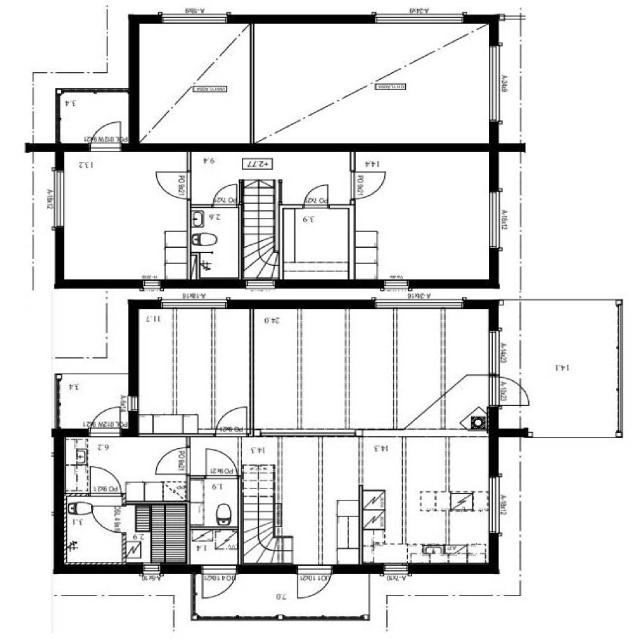door: (293, 562, 335, 600), (198, 444, 240, 480), (488, 376, 532, 410), (199, 564, 239, 600), (212, 403, 253, 437), (152, 444, 193, 478), (350, 168, 390, 200), (152, 168, 193, 199), (87, 464, 124, 497), (88, 404, 124, 437), (89, 118, 125, 148), (90, 503, 121, 534), (297, 182, 333, 208), (210, 181, 240, 207)
window: (483, 43, 509, 126), (370, 7, 470, 28), (366, 294, 473, 312), (156, 8, 237, 28), (483, 188, 508, 252), (483, 474, 506, 538), (46, 168, 69, 231), (157, 296, 234, 312), (484, 326, 506, 379), (377, 275, 417, 293), (381, 562, 413, 576), (138, 276, 166, 292), (242, 278, 278, 290), (141, 564, 164, 576), (126, 395, 140, 414)
zone: (246, 20, 494, 146), (351, 147, 494, 282), (58, 146, 192, 281), (359, 434, 490, 566), (500, 301, 621, 436), (367, 306, 495, 432), (134, 20, 253, 146), (135, 305, 244, 436), (283, 207, 354, 280), (189, 205, 242, 281), (61, 505, 125, 567), (128, 502, 192, 562), (189, 476, 241, 528)
